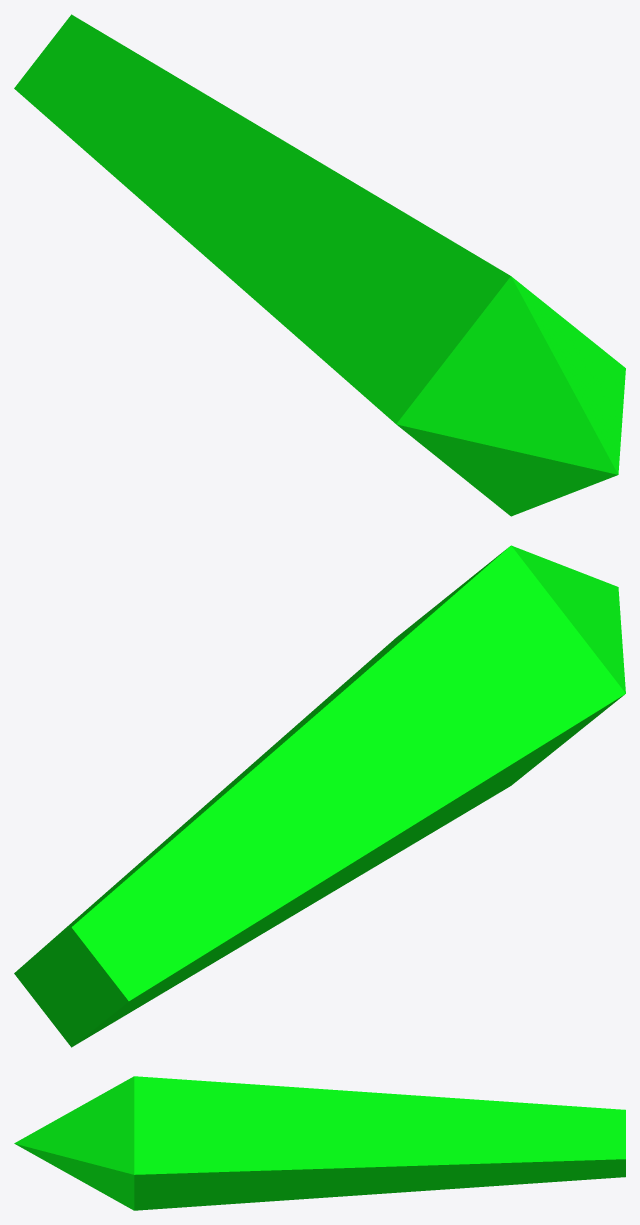
Rendered from bullet_green.FBX.
The picture shows the model from 3 angles, top to bottom: view 1: azimuth 30°, elevation 25°; view 2: azimuth 150°, elevation 25°; view 3: azimuth 270°, elevation 25°; orthographic projection. The views are drawn at different scales.
Parts seen in each view (by area): view 1: bullet_green; view 2: bullet_green; view 3: bullet_green.
Boxes of the visible parts, x1,y1,x2,y2 form: bullet_green: (14,14,625,516); bullet_green: (14,545,625,1047); bullet_green: (14,1076,625,1210).
Bounding box in the file's own units: 213 × 213 × 878.
